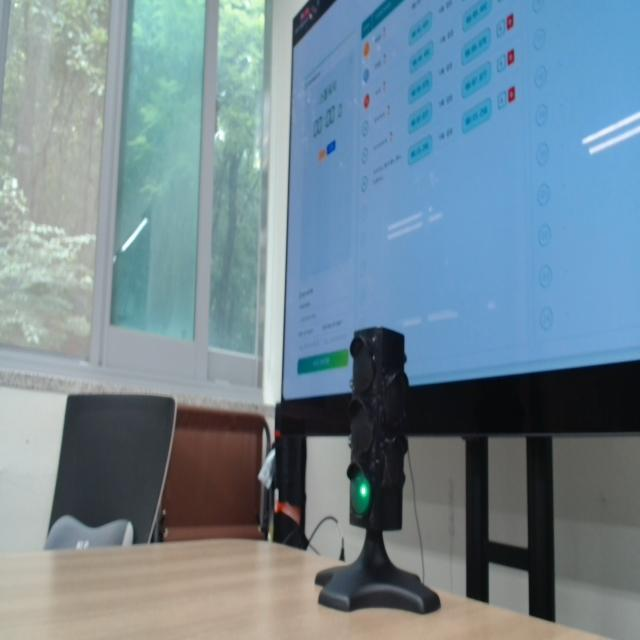green_light: (351, 472, 371, 516)
